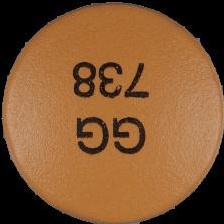50436-1182: (0, 0, 224, 224)
